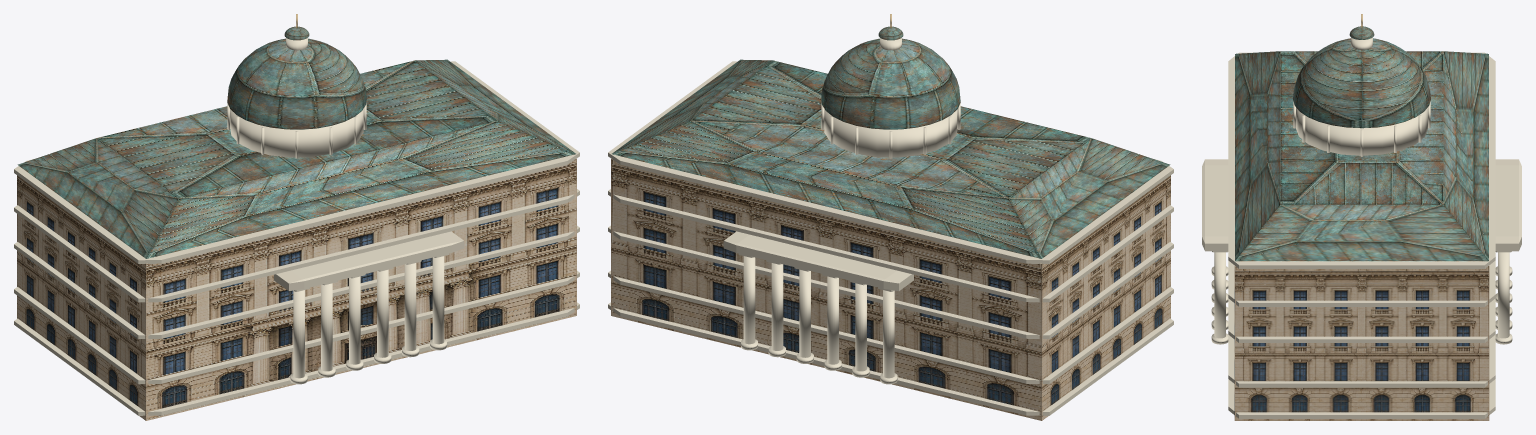
File: hsbc-lod1.glb
The picture shows the model from 3 angles, left to right: view 1: azimuth 30°, elevation 25°; view 2: azimuth 150°, elevation 25°; view 3: azimuth 270°, elevation 25°; orthographic projection.
Visible parts, largest first — view 1: hsbc_architecture; view 2: hsbc_architecture; view 3: hsbc_architecture.
Boxes of the visible parts, x1,y1,x2,y2 form: hsbc_architecture: (14,14,579,420); hsbc_architecture: (608,14,1173,420); hsbc_architecture: (1202,14,1521,420).
Size of the model in its own units: 27.7 by 18.4 by 17.6.
6 materials, 4 textured.
